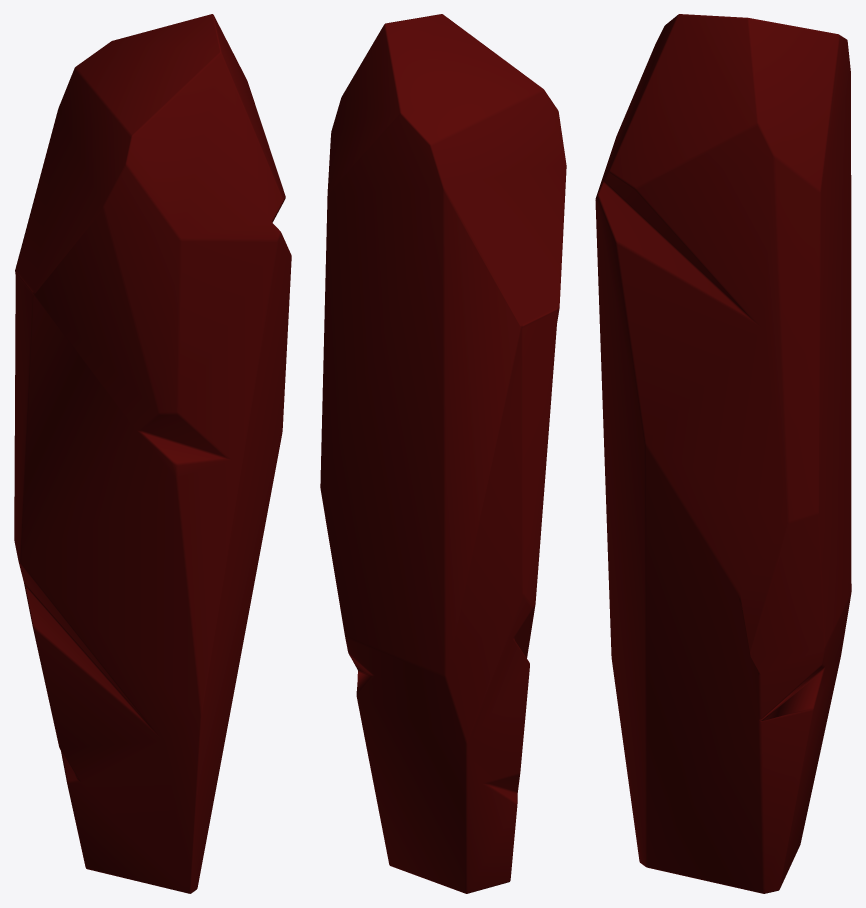
File: CrackCrystal1.fbx
3 renders of one model, left to right at view 1: azimuth 30°, elevation 25°; view 2: azimuth 150°, elevation 25°; view 3: azimuth 270°, elevation 25°, orthographic. The views are drawn at different scales.
Visible parts, largest first — view 1: Crystal.007; view 2: Crystal.007; view 3: Crystal.007.
Part boxes in pixels (x1,y1,x2,y2): Crystal.007: (14,14,291,893); Crystal.007: (320,14,566,893); Crystal.007: (595,14,851,893).
Size of the model in its own units: 911 by 3265 by 858.
